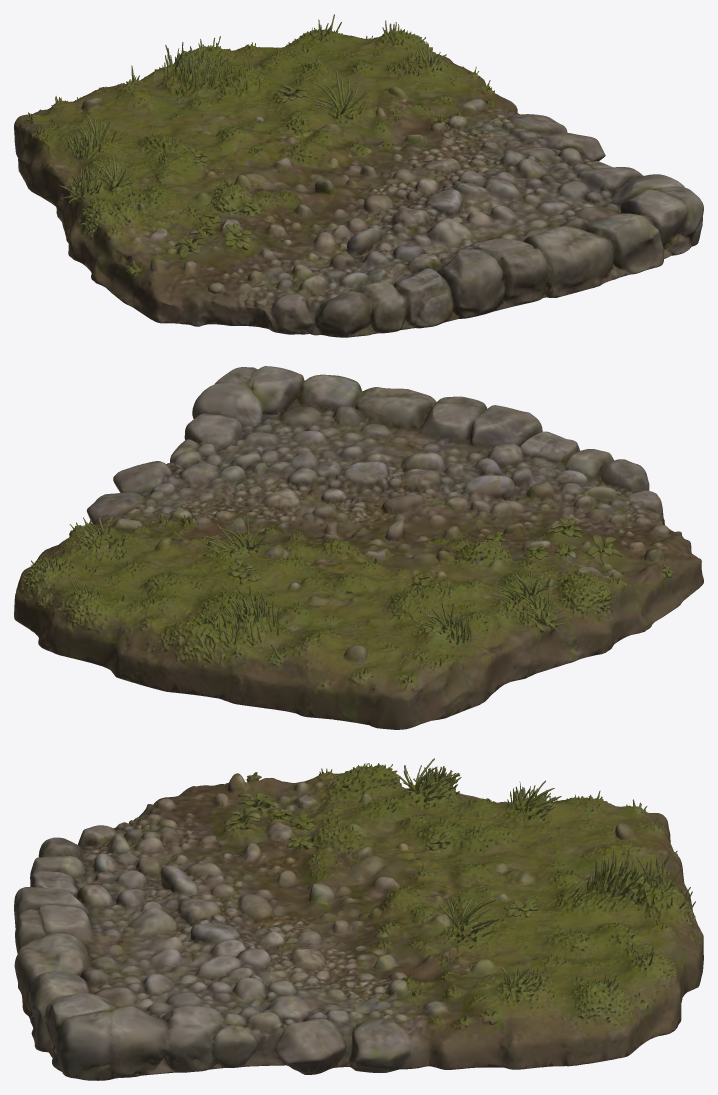
The model's file is Meshy_AI_rocky_riverbank_0823030605_image-to-3d-texture.glb.
3 views of the same model, one above another, from view 1: azimuth 30°, elevation 25°; view 2: azimuth 150°, elevation 25°; view 3: azimuth 270°, elevation 25° (orthographic). The views are drawn at different scales.
Parts seen in each view (by area): view 1: mesh_node; view 2: mesh_node; view 3: mesh_node.
Part boxes in pixels (box(x1,y1,x2,y2)): mesh_node: box(14, 14, 703, 337); mesh_node: box(14, 366, 703, 729); mesh_node: box(14, 758, 703, 1080).
Size of the model in its own units: 1.8 by 0.2577 by 1.9.
Materials: 1 (1 with a texture image).
